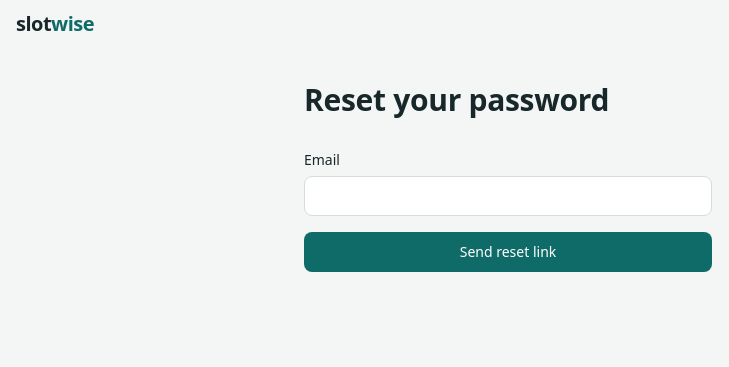
forgot password › reports a network failure
Step 1. Type "someone@example.com" into the field labelled "Email" → {"x": 508, "y": 196}, box [304,176,712,216]
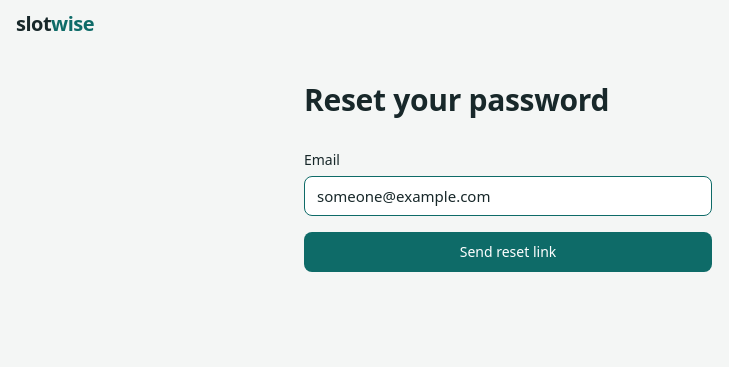
Step 2. Click the button "Send reset link" → {"x": 508, "y": 252}, box [304,232,712,272]
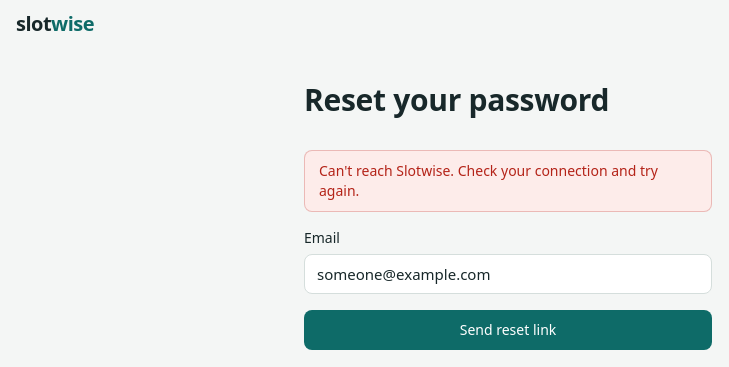
Expected: the message shows "Can't reach Slotwise", [319,161,658,200]
